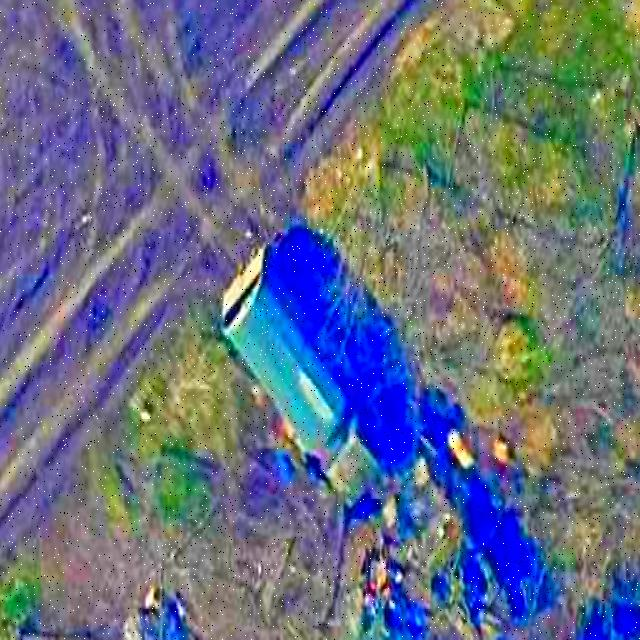TRUCK: (220, 244, 392, 508)
